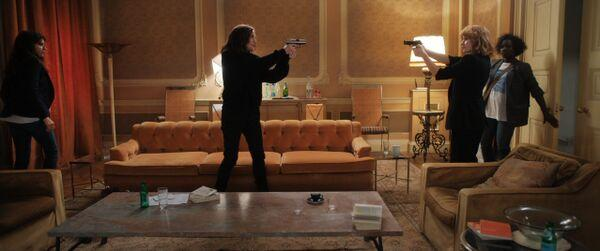Gun: (285, 38, 308, 46), (403, 39, 421, 48)
